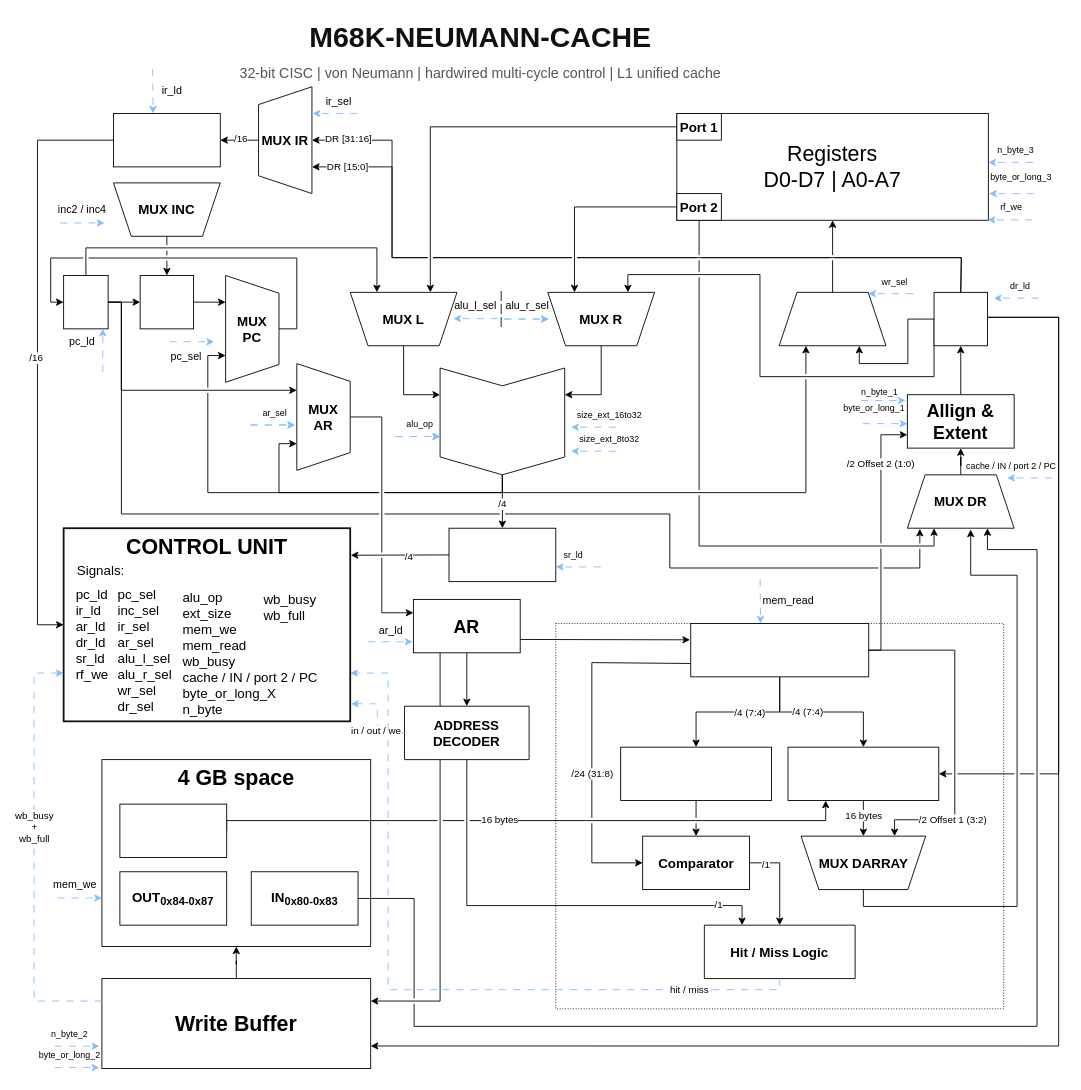
This 1081x1090 diagram has some shape labels left out. The shapes that lost their labels are listed below. From the top down, each one's centre as x and y in pixels, then its label:
pixel 166 140: IR 16
pixel 85 302: PC
pixel 166 302: INC
pixel 832 318: MUX WR
pixel 960 318: DR
pixel 502 421: ALU
pixel 502 554: SR: NZVC
pixel 779 650: L1 CACHE (256 bytes)
pixel 695 773: Tag Array 16 rows X (24b + V)
pixel 863 773: Data Array 16 rows X 16 bytes
pixel 173 830: RAM 4КБ
